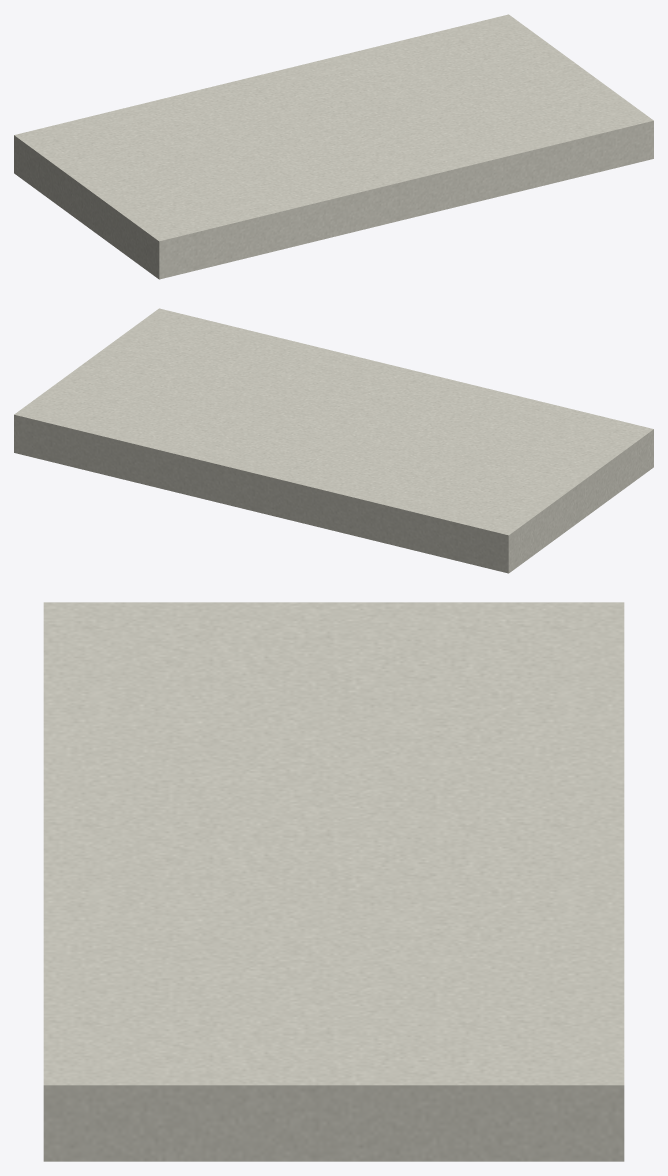
The model's file is SM_OpRoom_CeilingLamp.fbx.
The picture shows the model from 3 angles, top to bottom: view 1: azimuth 30°, elevation 25°; view 2: azimuth 150°, elevation 25°; view 3: azimuth 270°, elevation 25°; orthographic projection. The views are drawn at different scales.
Parts seen in each view (by area): view 1: CeilingLamp; view 2: CeilingLamp; view 3: CeilingLamp.
Boxes of the visible parts, x1,y1,x2,y2 form: CeilingLamp: (14,14,653,279); CeilingLamp: (14,308,653,573); CeilingLamp: (43,602,624,1161).
Bounding box in the file's own units: 1.22 × 0.09 × 0.62.
2 materials, 2 textured.
